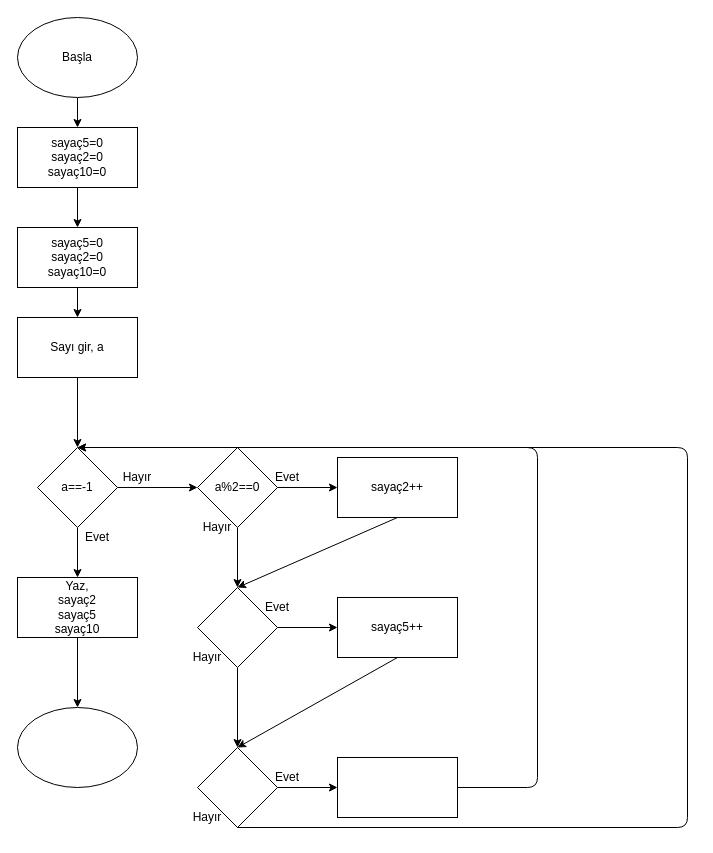
Some shapes in this 713 by 853 pixel diagram are drawn without their labels. The shapes that lost their labels are listed below. From the top down, each one's box as (x1, y1, x2, y2) in pixels, then its label:
(196, 586, 278, 668): a%5==0
(16, 706, 138, 788): Son
(196, 746, 278, 828): a%10==0
(336, 756, 458, 818): sayaç10++
